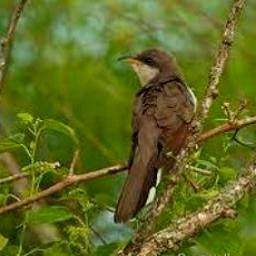Cuckoo: (112, 48, 198, 223)
